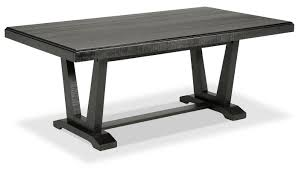table: (2, 4, 296, 154)
